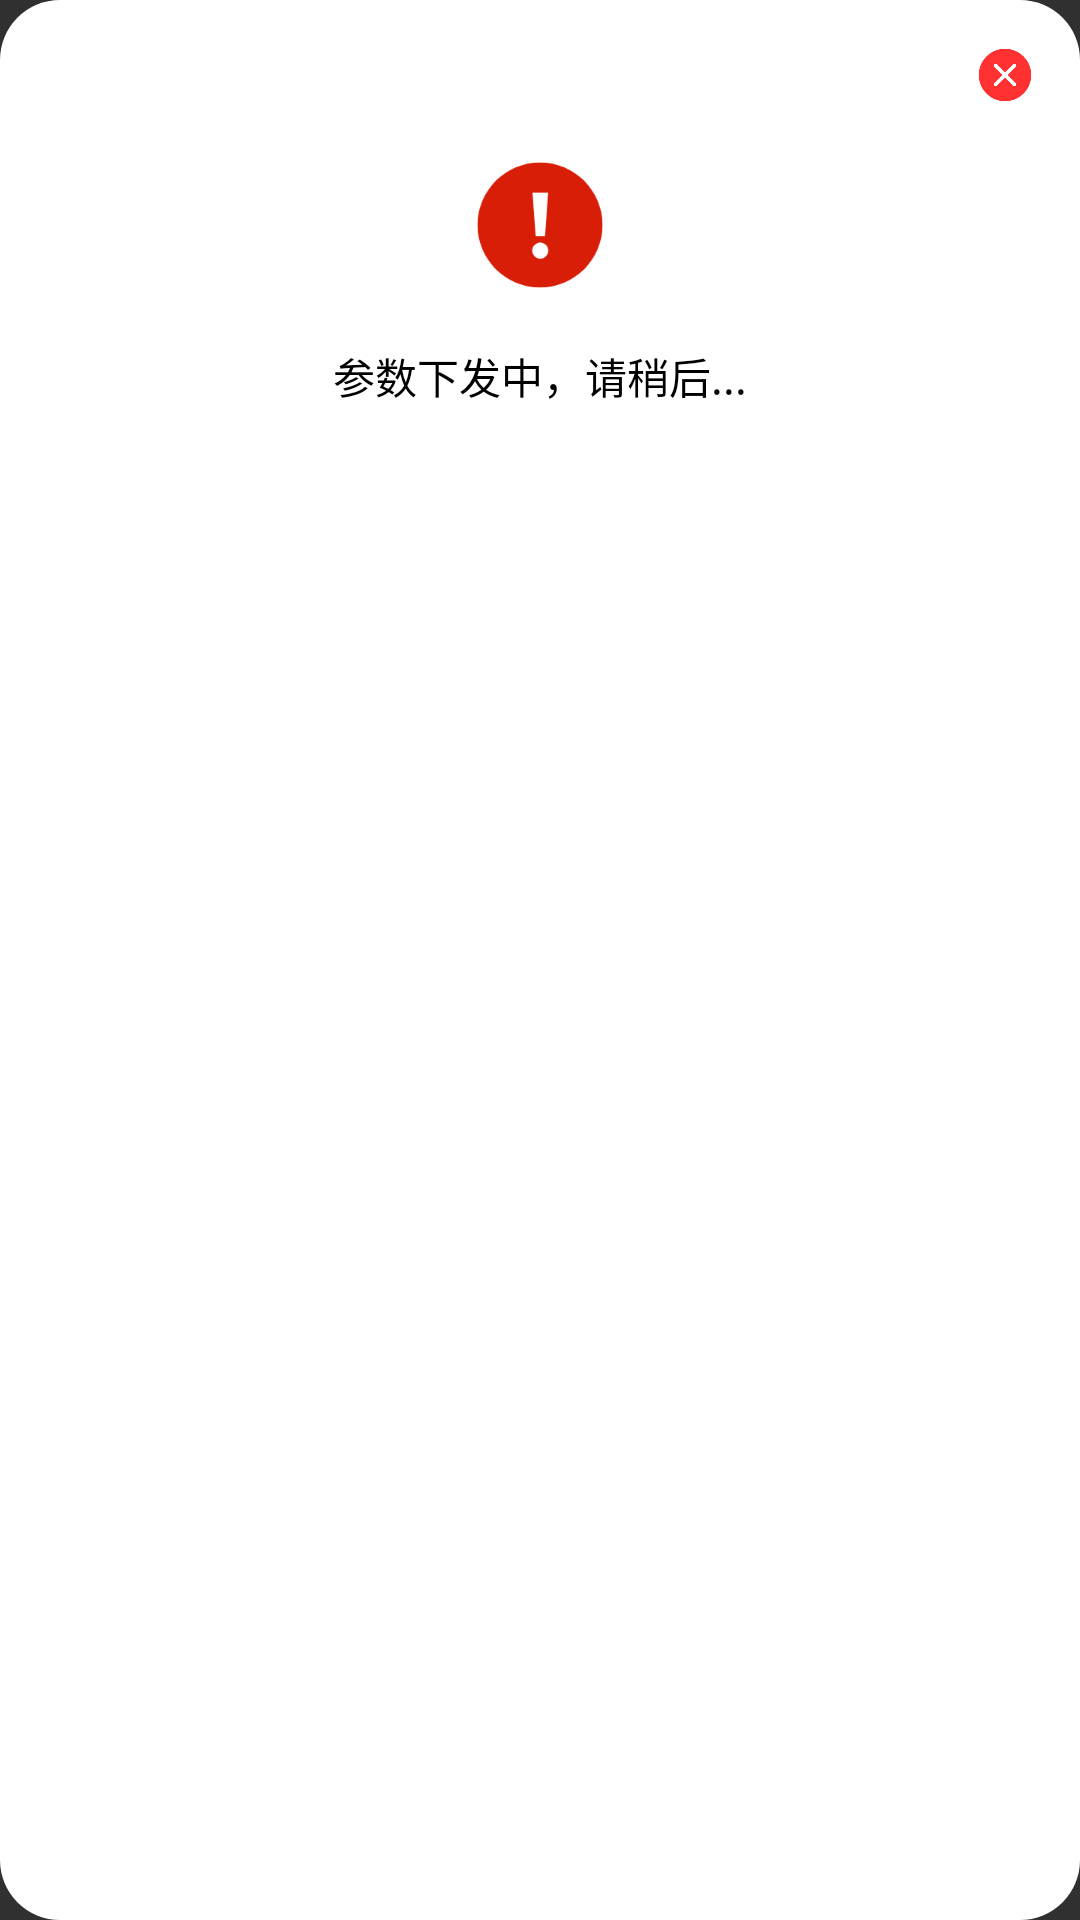

Screen size 1080 × 1920. Icon name, then its box in pixels as (x1, y1, x2, y2):
close: (979, 49, 1031, 101)
warn: (477, 162, 603, 288)
